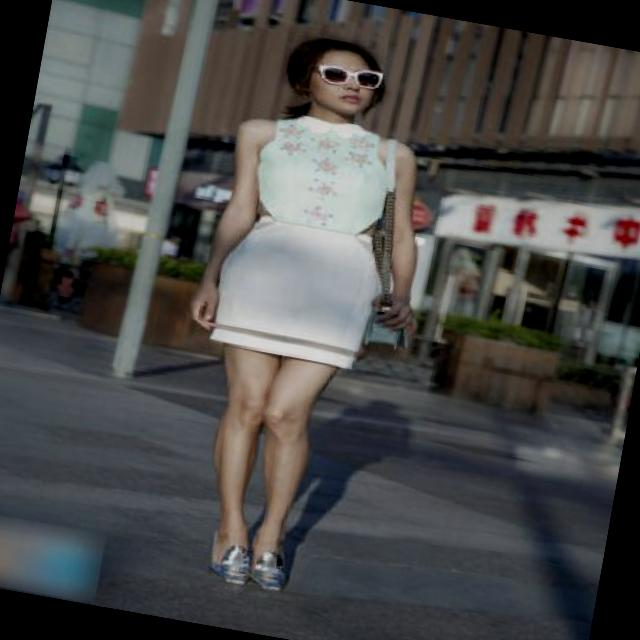Person: (148, 2, 502, 626)
